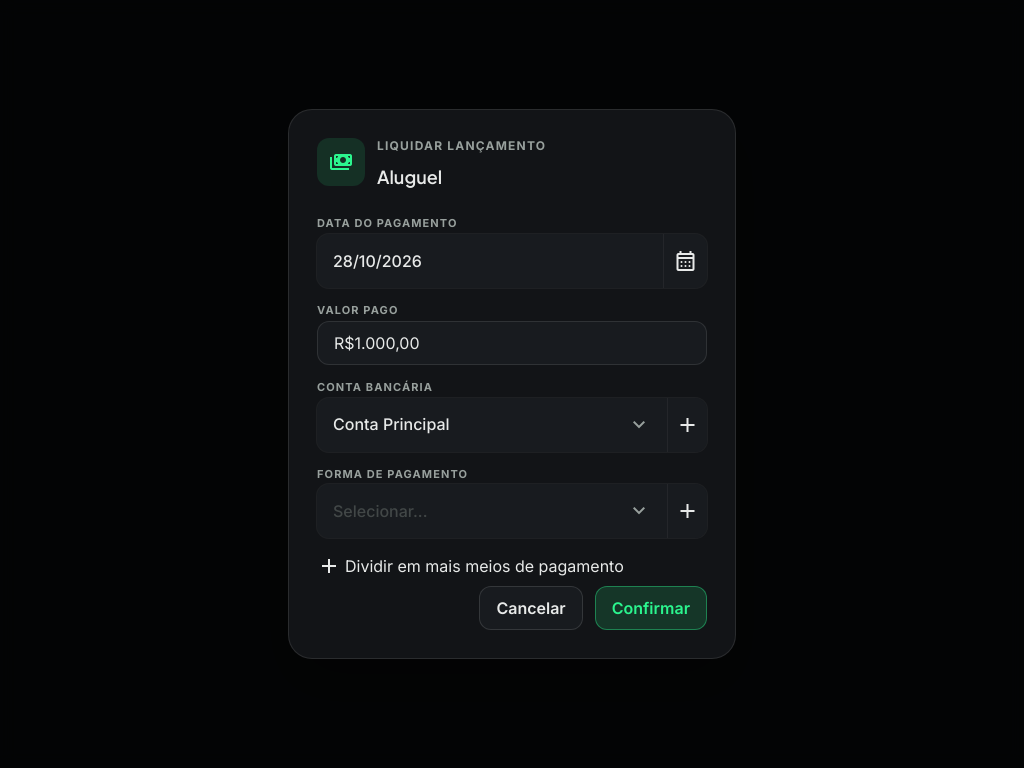
LiquidarModal › shows atualizarRecorrencia toggle when ehRecorrente=true in isMaior step
Clear the field showing "1.000" below "Valor pago". click: [512, 343]
box: [317,320,707,365]
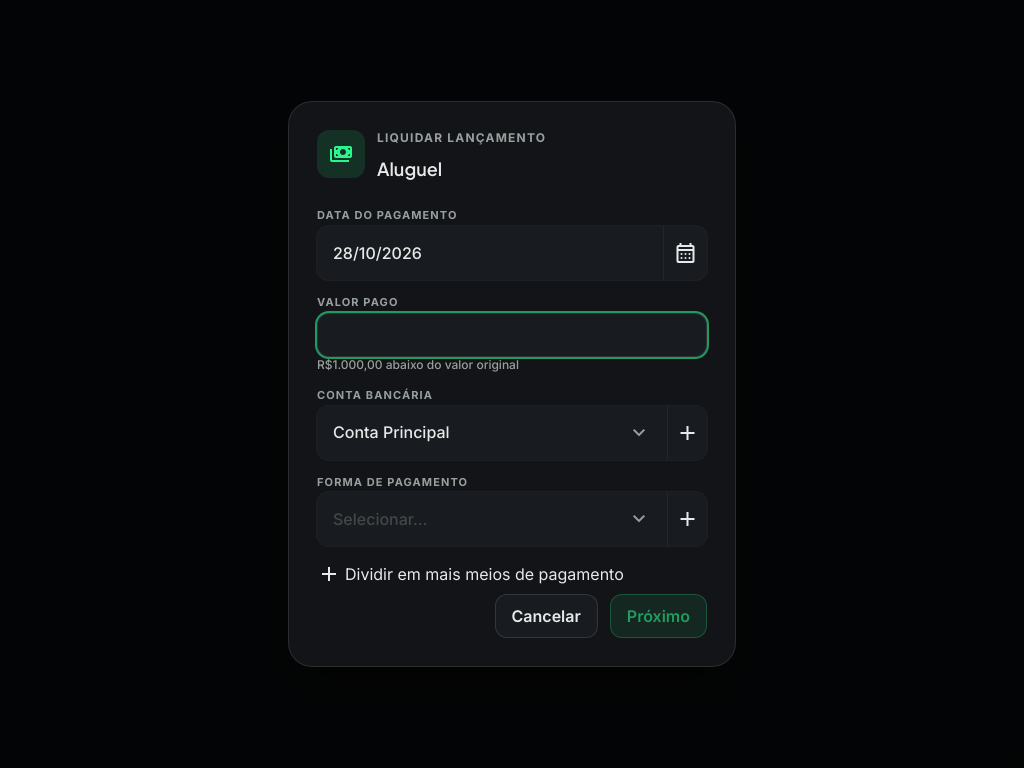
Type "1200,00" into the field showing "1.000" below "Valor pago". click: [512, 335]
box: [317,312,707,357]
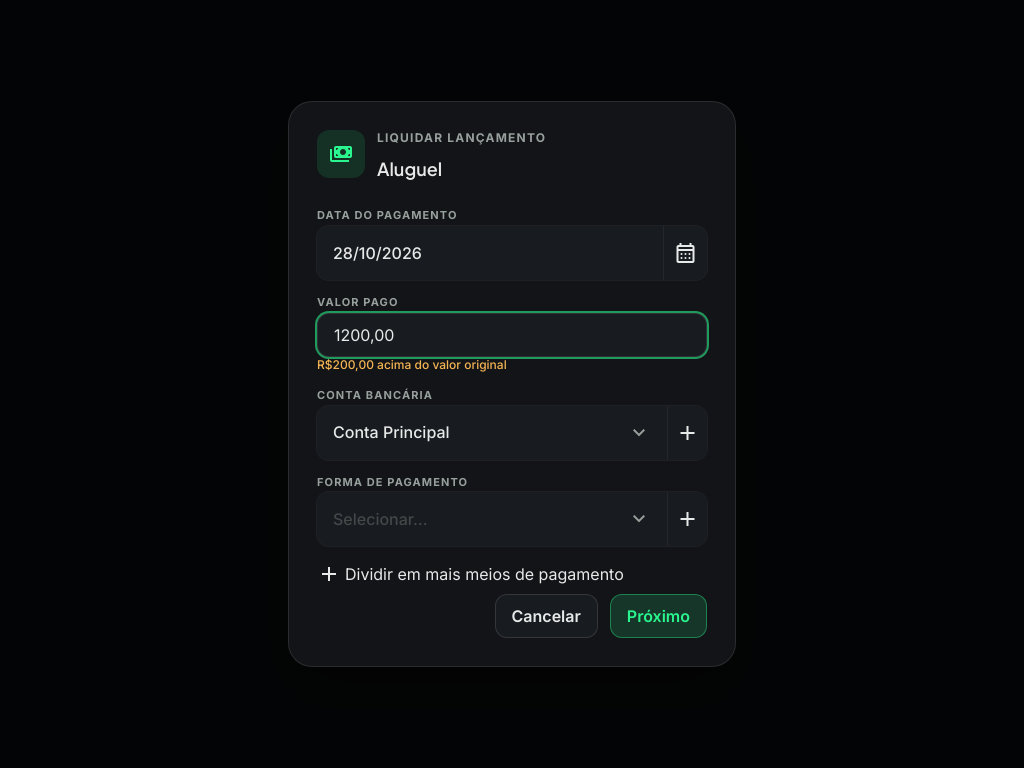
Press Tab
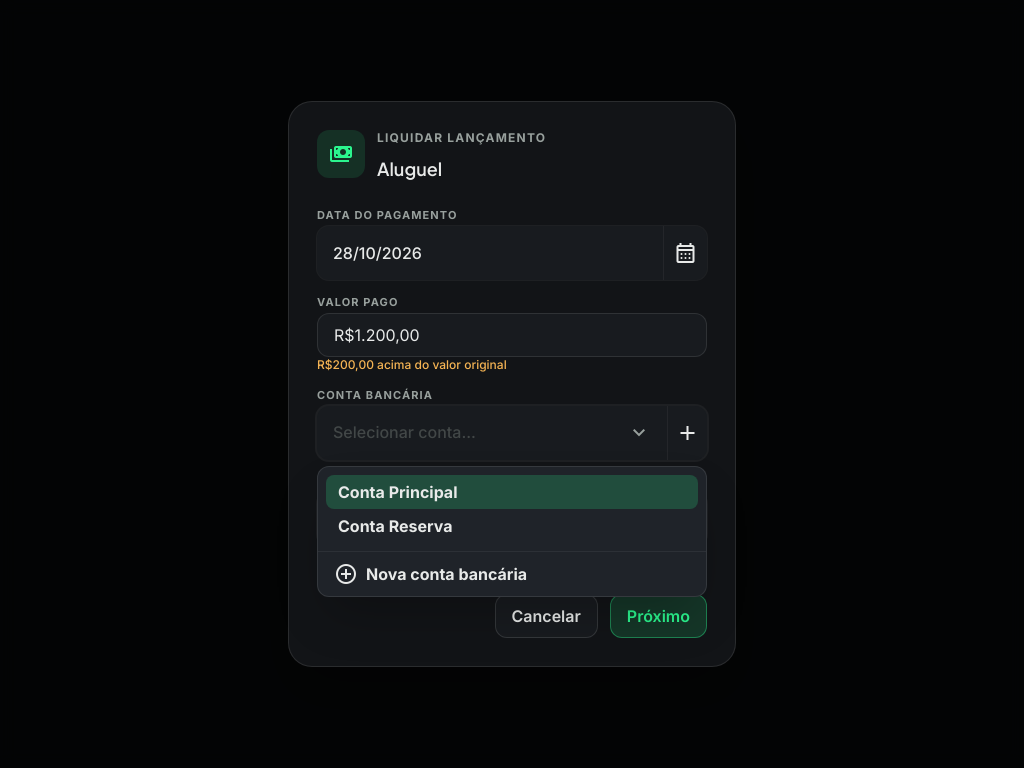
Click the button "Próximo". click: [658, 616]
box: [610,594,707,638]
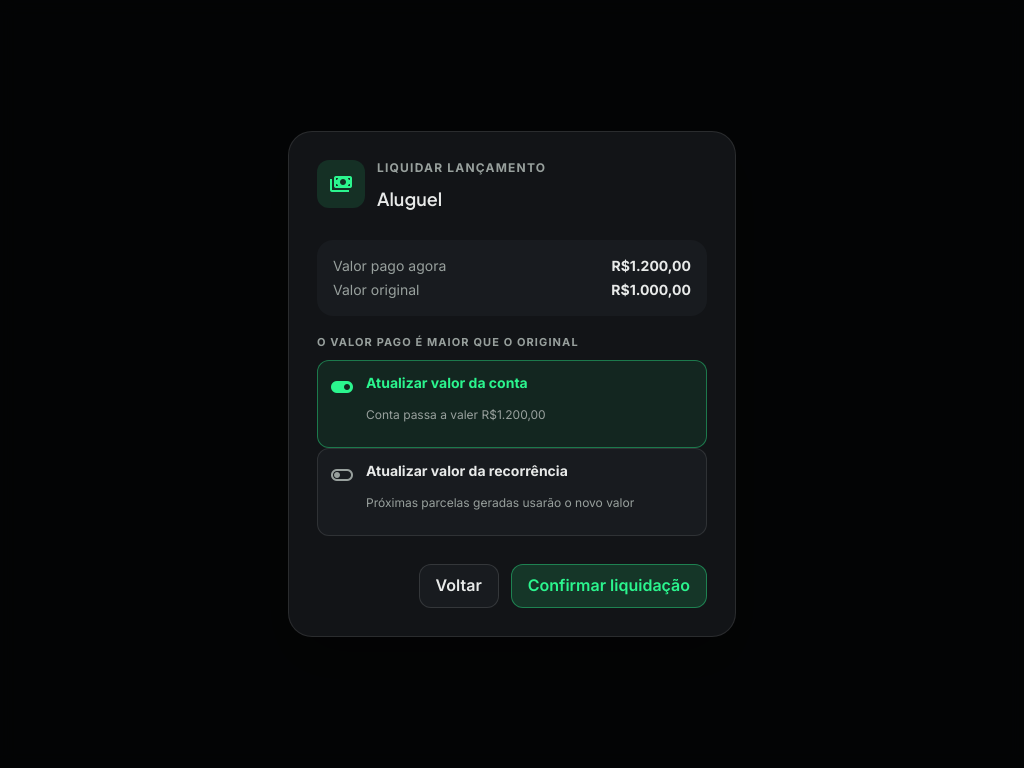
Now the text "Atualizar valor da recorrência" is shown, box [366,462,568,479]
